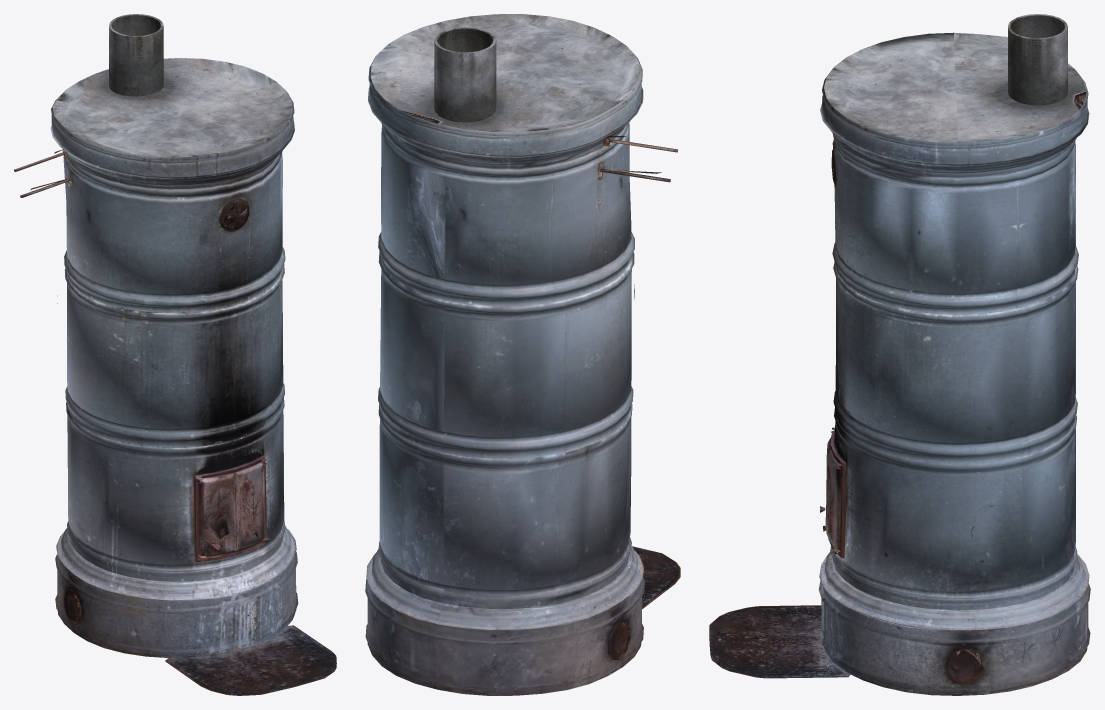
File: scandinavian-masonry-heater.glb
The picture shows the model from 3 angles, left to right: view 1: azimuth 30°, elevation 25°; view 2: azimuth 150°, elevation 25°; view 3: azimuth 270°, elevation 25°; orthographic projection. The views are drawn at different scales.
Parts seen in each view (by area): view 1: scandinavian_masonry_heater; view 2: scandinavian_masonry_heater; view 3: scandinavian_masonry_heater.
Boxes of the visible parts, x1,y1,x2,y2 form: scandinavian_masonry_heater: (14, 14, 336, 695); scandinavian_masonry_heater: (365, 14, 680, 695); scandinavian_masonry_heater: (709, 14, 1090, 695).
Bounding box in the file's own units: 1.17 × 2.36 × 1.33.
1 material, 1 textured.
